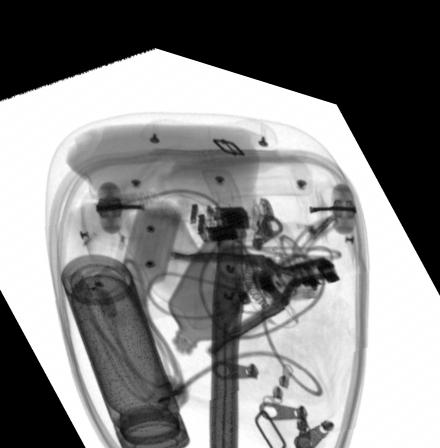Pliers: (169, 237, 339, 342)
